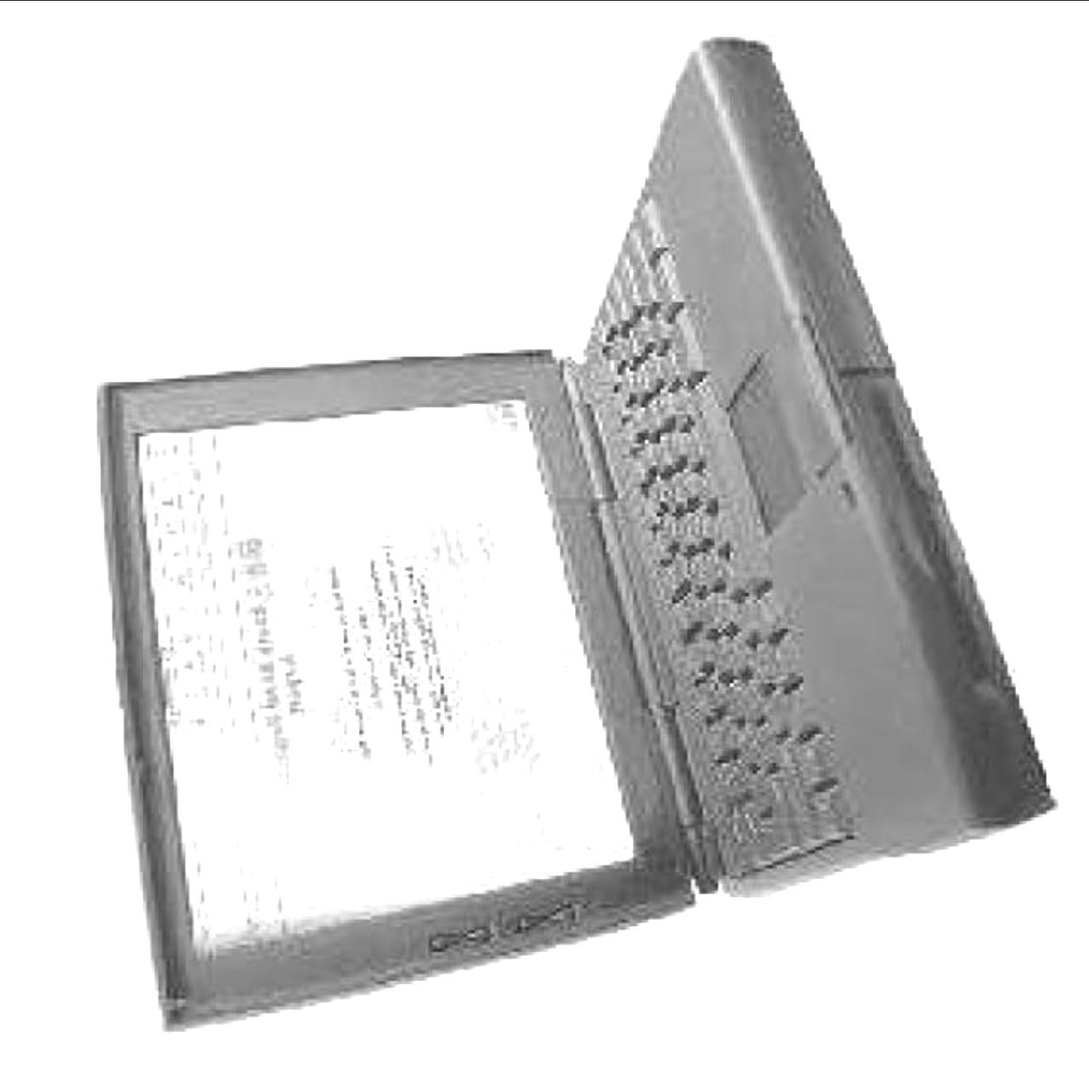laptop: (54, 32, 1029, 1050)
